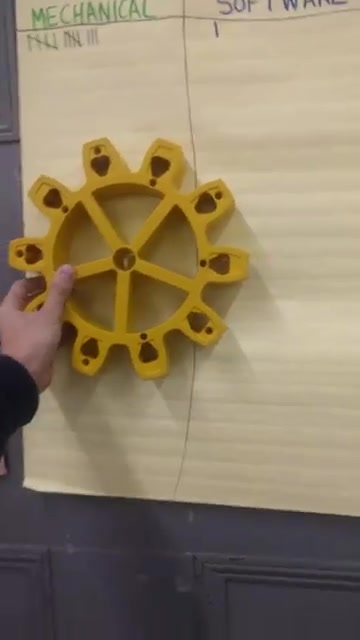gear: (8, 132, 248, 385)
